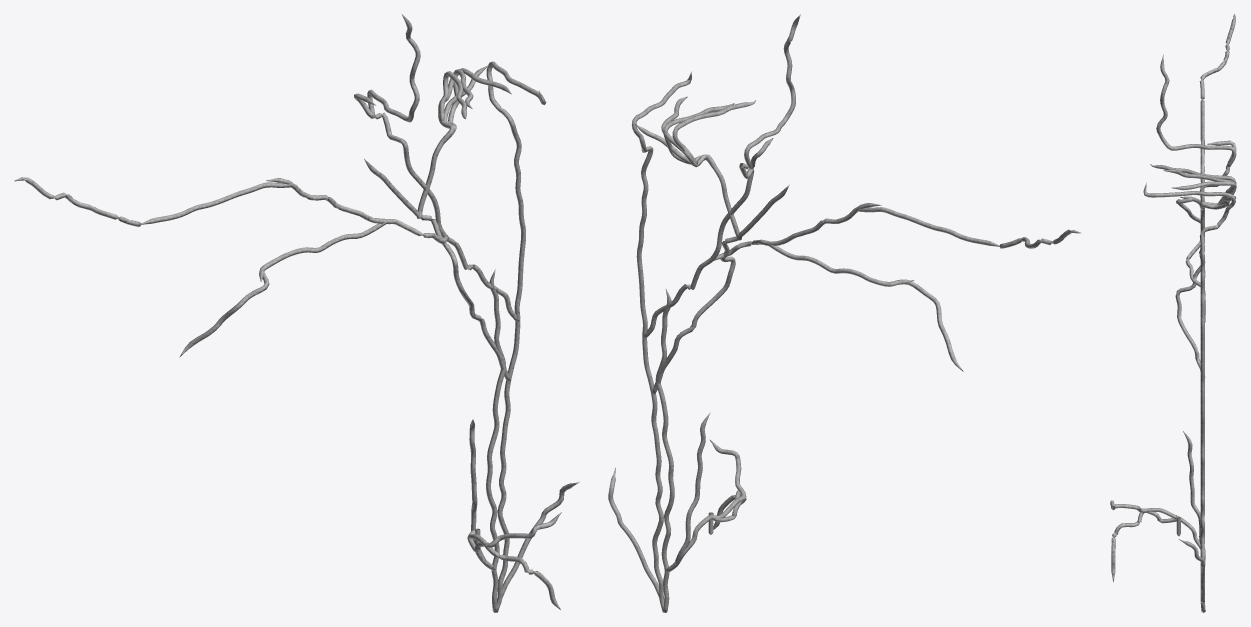
The model's file is SM_Climber_11a.fbx.
3 renders of one model, left to right at view 1: azimuth 30°, elevation 25°; view 2: azimuth 150°, elevation 25°; view 3: azimuth 270°, elevation 25°, orthographic. The views are drawn at different scales.
Parts seen in each view (by area): view 1: SM_Climber_11a_LOD0; view 2: SM_Climber_11a_LOD0; view 3: SM_Climber_11a_LOD0.
Part boxes in pixels (bbox=[...]): SM_Climber_11a_LOD0: bbox=[14, 14, 579, 612]; SM_Climber_11a_LOD0: bbox=[608, 14, 1081, 612]; SM_Climber_11a_LOD0: bbox=[1110, 14, 1236, 612].
Size of the model in its own units: 1140 by 297 by 1326.
